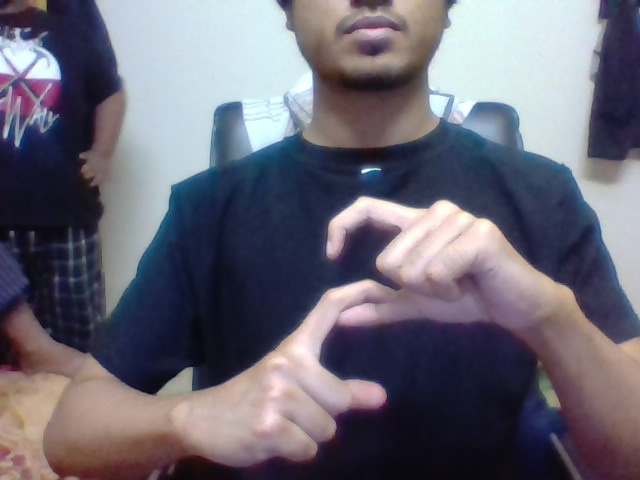S: (303, 194, 407, 412)
